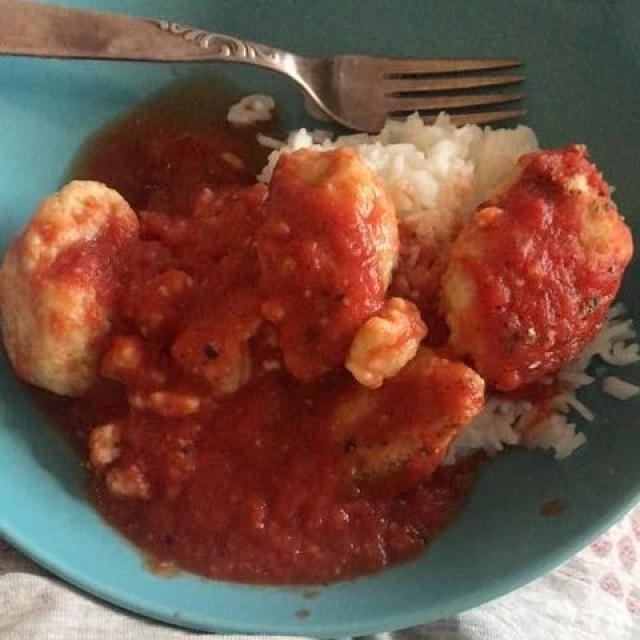rice: (258, 109, 621, 480)
tomato-sauce: (64, 82, 629, 595)
